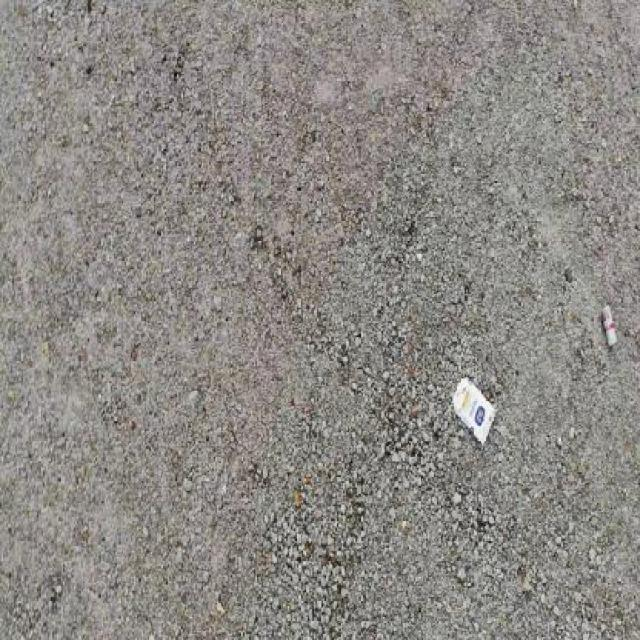Garbage: (451, 375, 497, 447), (600, 305, 619, 348)
